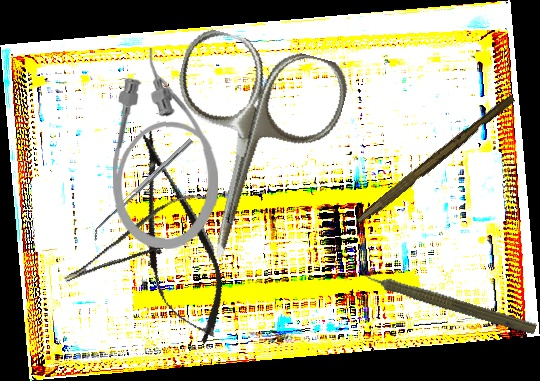Cannula: (111, 47, 221, 250)
Handpiece: (350, 261, 540, 339)
Iris Scissors: (136, 24, 354, 279)
Micro Scissor: (112, 119, 239, 353), (52, 185, 223, 288)
Scalpel Handle: (355, 91, 517, 229)
Spatula Surgical: (87, 138, 198, 241)
